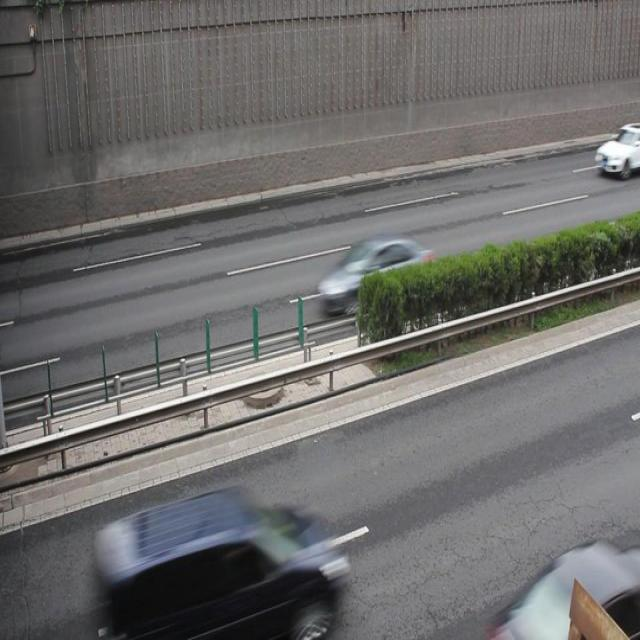car: (496, 544, 640, 640), (317, 235, 434, 316), (593, 122, 640, 174)
truck: (95, 483, 341, 640)
